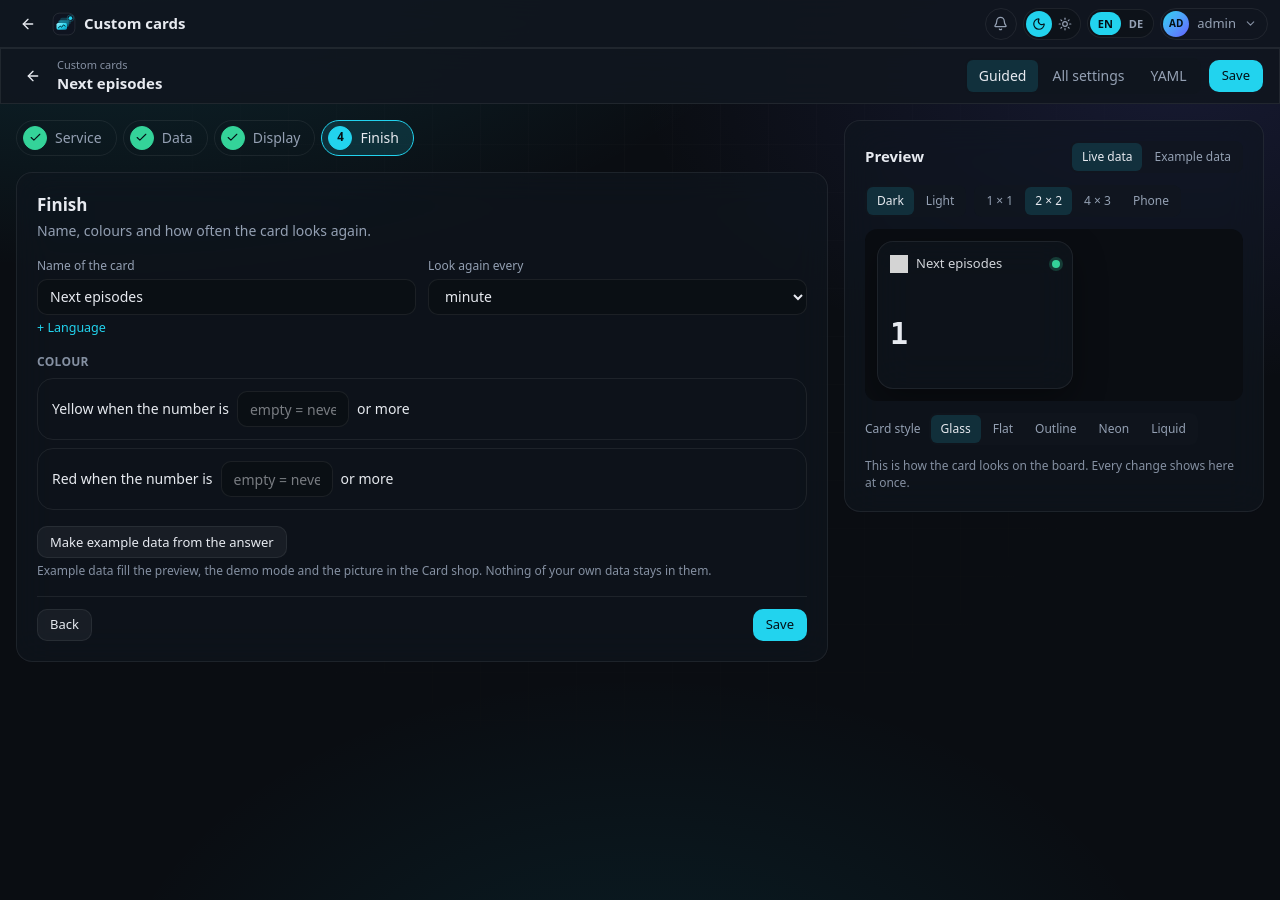
Test: karten18 ac3: open in editor › asks before it is left, since the draft is not saved
This screenshot has width=1280, height=900.
Check: the 1st heading "Next episodes" is shown, box [57,73,162,93]
Click the link named "Back to Custom cards": (33, 76) [25,68,41,84]
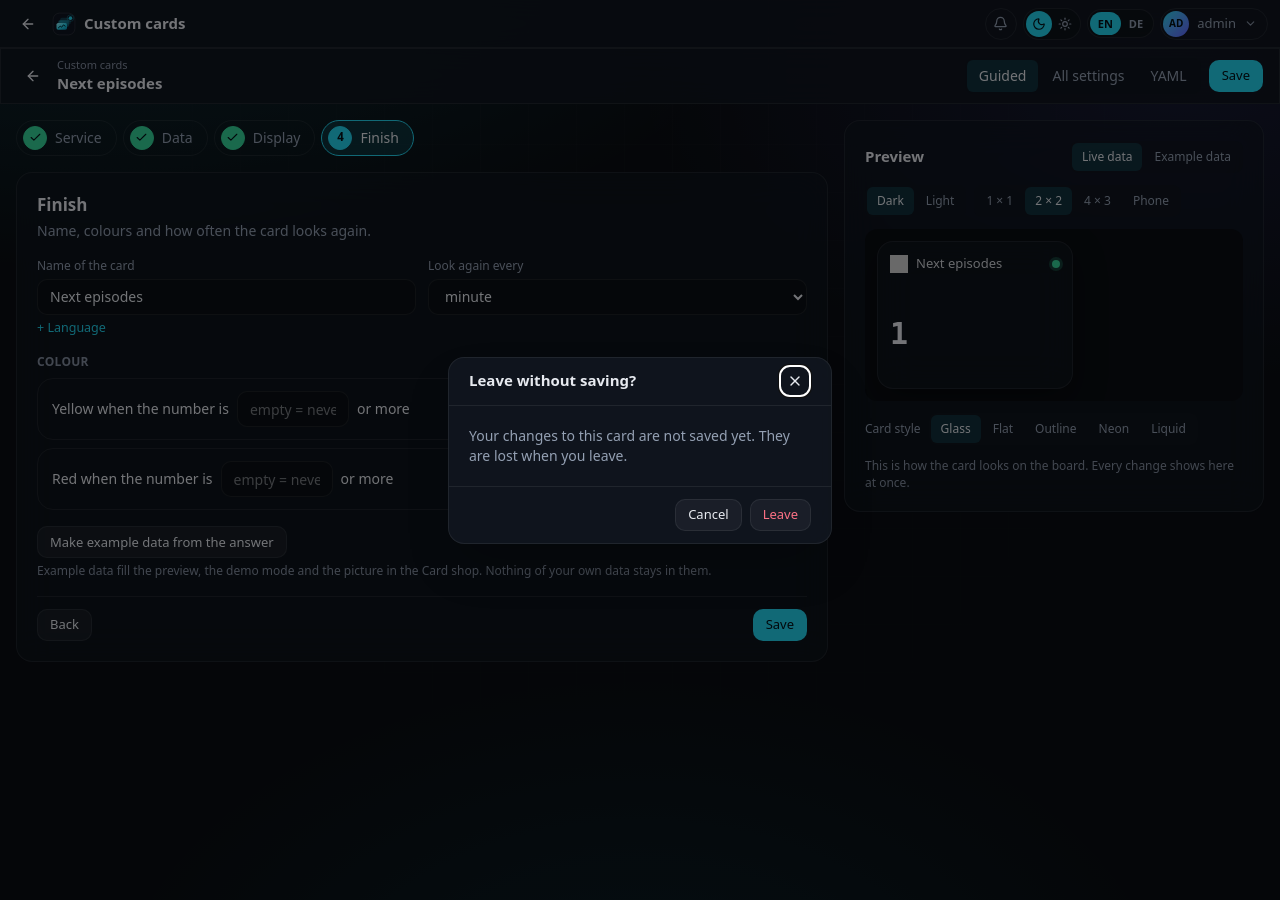
Check: the heading "Leave without saving?" is shown, box [469,370,636,390]
